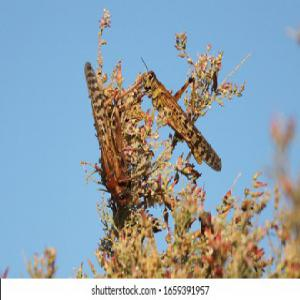locust: (137, 50, 244, 178), (71, 53, 139, 202)
